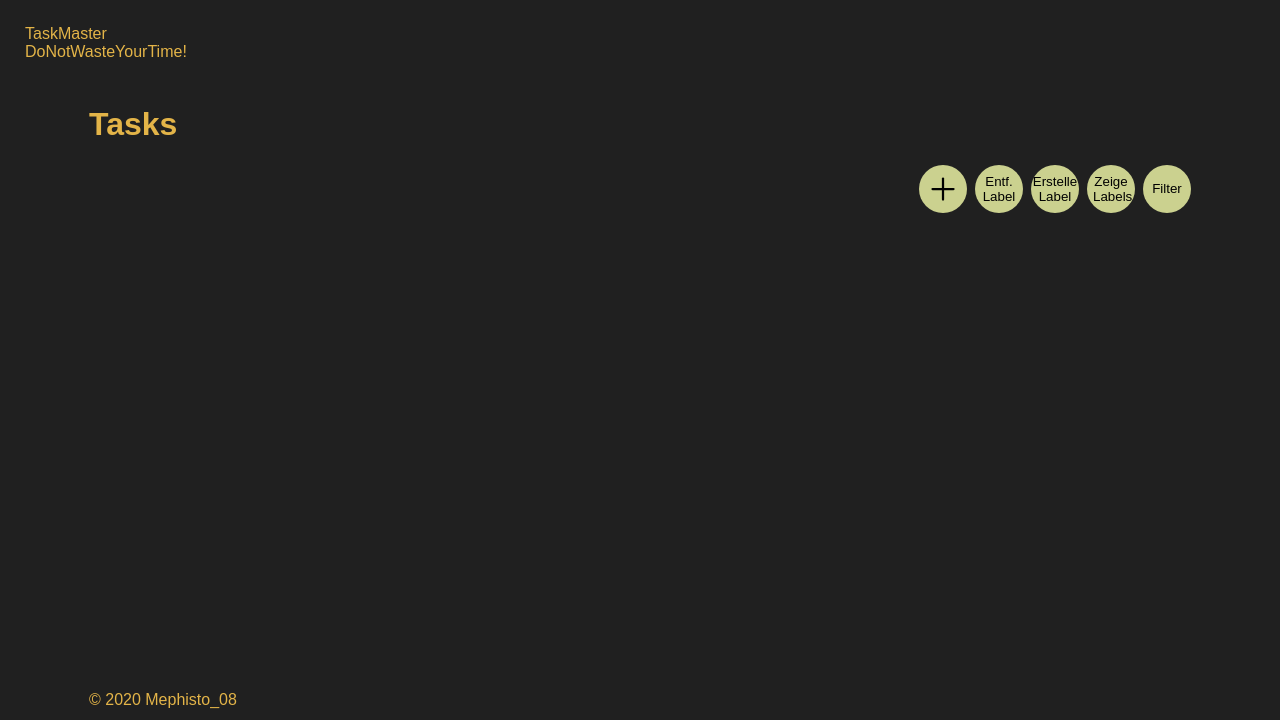
TaskOverviewPage › create a Task
Click the button with test id "create-task-button".
click(943, 189)  # box [919,165,967,213]
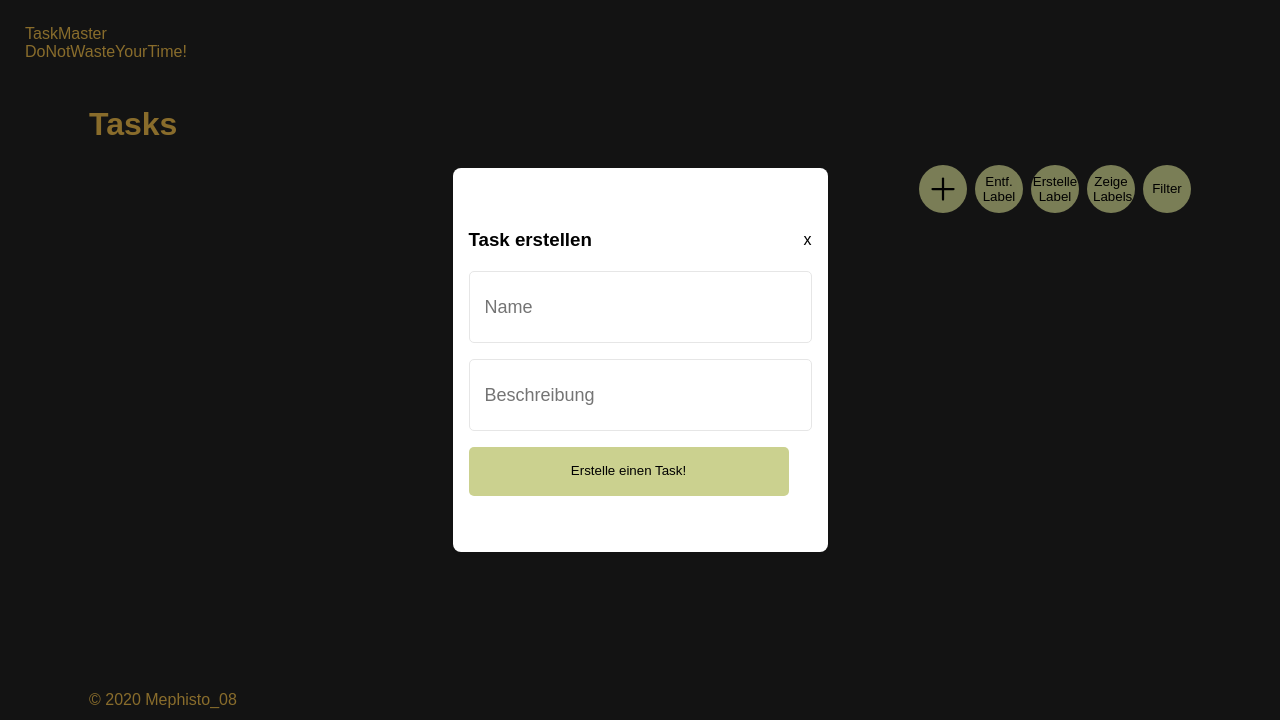
Expected: the form with test id "create-task-form" is shown, [468,271,812,512]
Type "Task Test 1 Test" into the field labelled "Name".
click(640, 307); type("Task Test 1 Test")  # box [470,272,810,342]
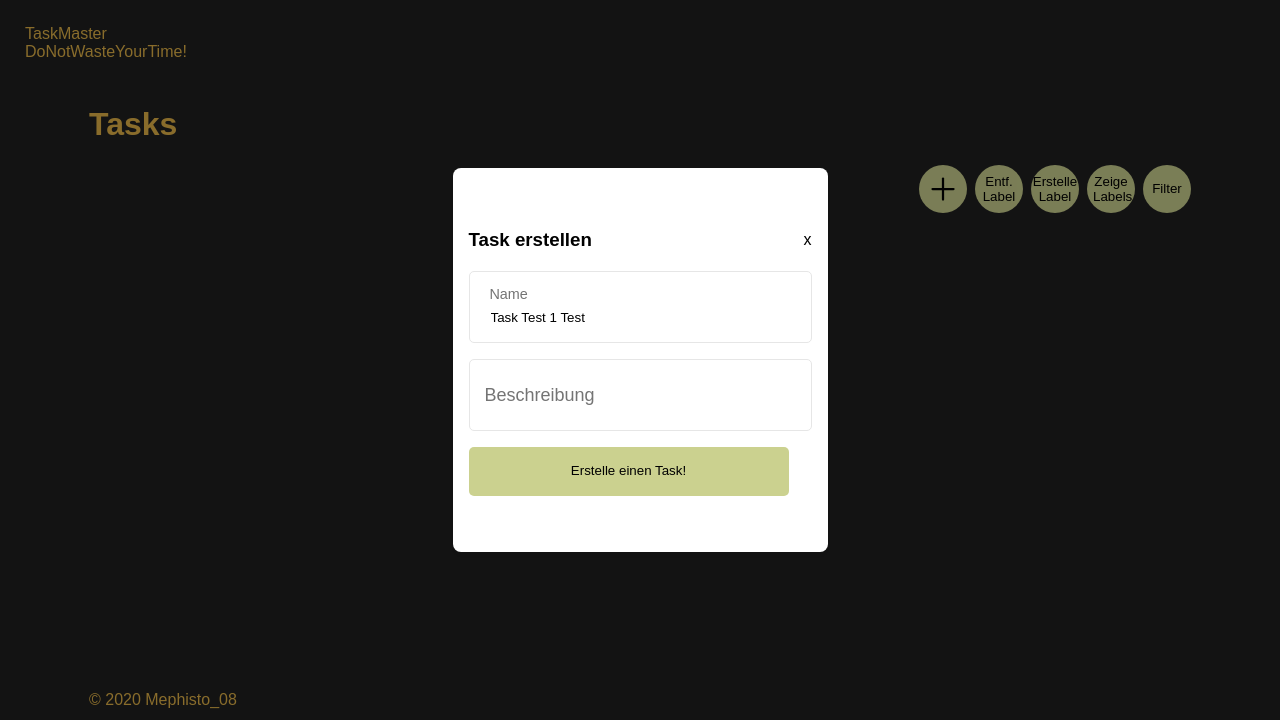
Type "Beschreibung Test 1 Test" into the field labelled "Beschreibung".
click(640, 395); type("Beschreibung Test 1 Test")  # box [470,360,810,430]
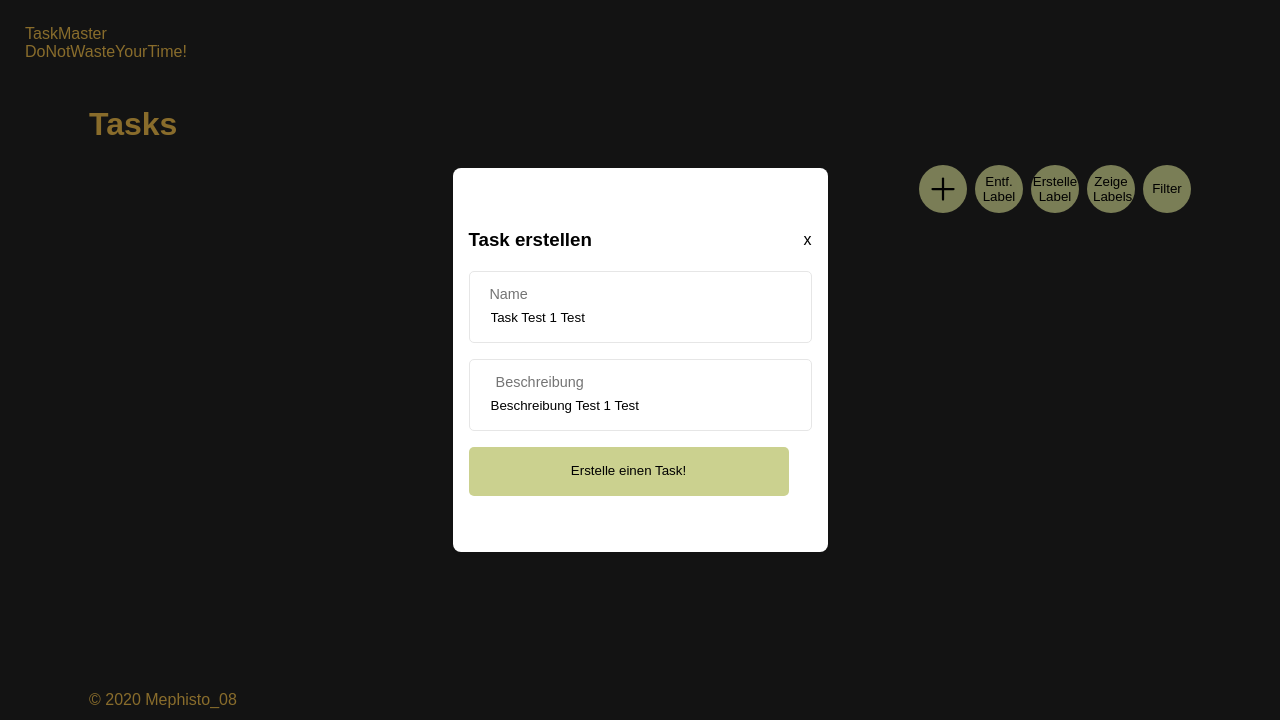
Click the button "Erstelle einen Task!".
click(628, 471)  # box [468,447,788,496]
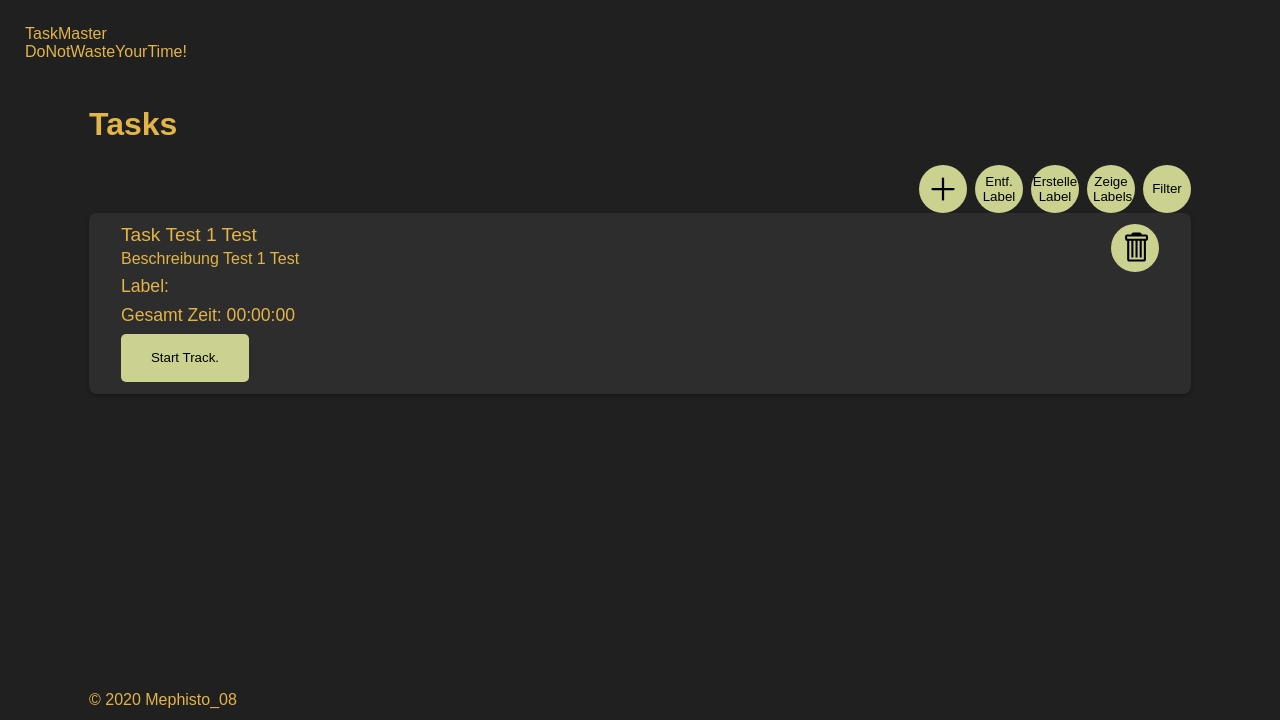
Expected: the number of list items with test id "task-item" is 1, [89,213,1191,394]
